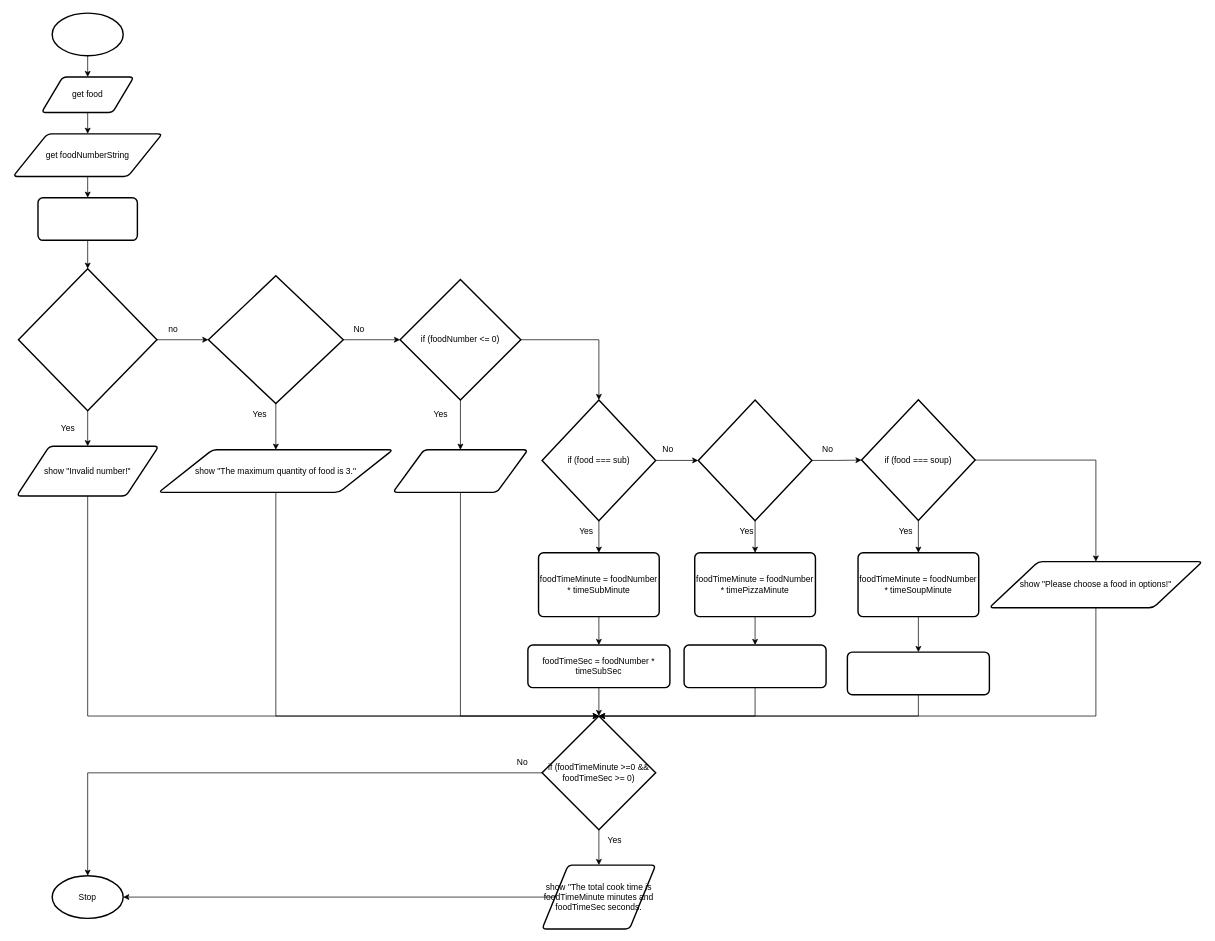
This 1215x941 diagram has some shape labels left out. Here are the shapes that lost their labels. From the top down, the centre of each, then its label:
pixel 87 34: Start
pixel 87 219: convert string to int
pixel 87 339: if (isNaN(foodNumber))
pixel 275 339: if (foodNumber > 3)
pixel 460 471: show "Please enter a positive number!"
pixel 754 460: if (food === pizza)
pixel 754 666: foodTimeSec = foodNumber * timePizzaSec
pixel 918 673: foodTimeSec = foodNumber * timeSoupSec
